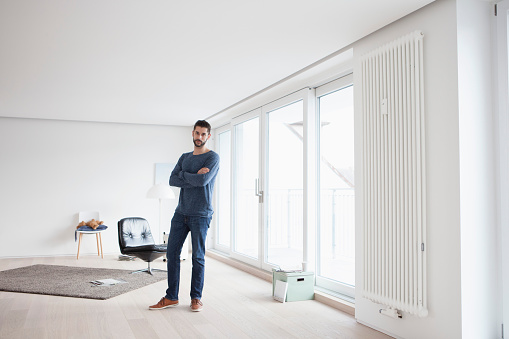em pe: (153, 119, 221, 307)
